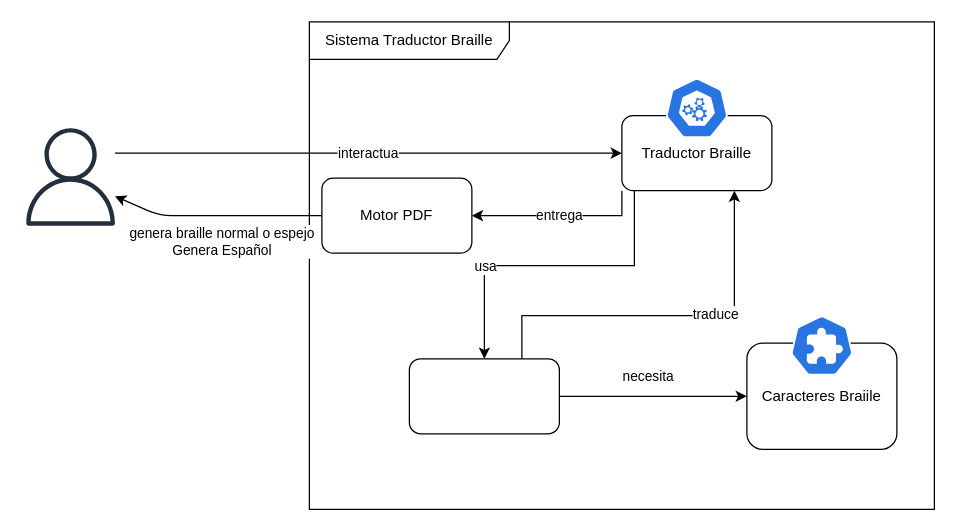
The diagram is 956 pixels wide and 531 high, and some of its shapes have lost their labels. Here are the shapes that lost their labels. From the top down, the box of each, then its label:
(21, 128, 119, 225): usuario
(408, 358, 559, 434): Fabrica de caracteres
